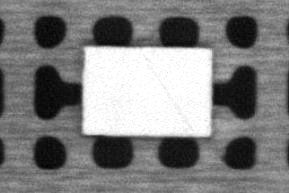DIE_CRACK: (142, 53, 191, 130)
